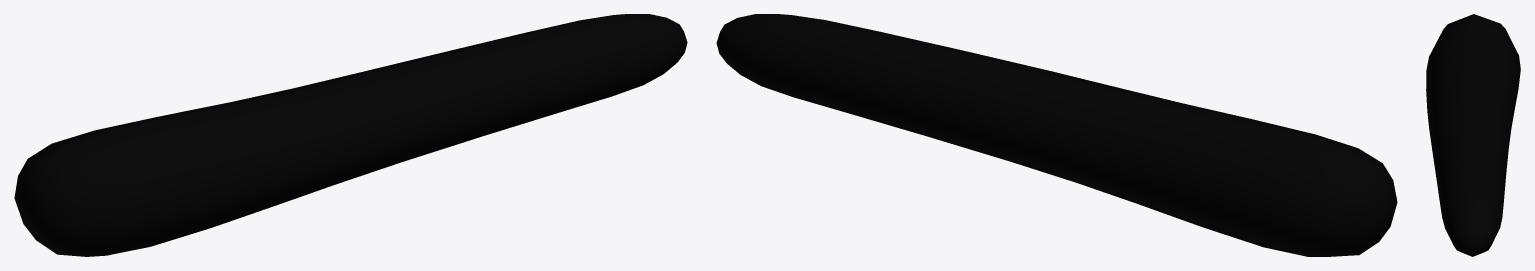
The model's file is PuroHueso_Brazo_L_1.obj.
The picture shows the model from 3 angles, left to right: view 1: azimuth 30°, elevation 25°; view 2: azimuth 150°, elevation 25°; view 3: azimuth 270°, elevation 25°; orthographic projection. The views are drawn at different scales.
Parts seen in each view (by area): view 1: PuroHueso_Brazo_L_1; view 2: PuroHueso_Brazo_L_1; view 3: PuroHueso_Brazo_L_1.
Boxes of the visible parts, x1,y1,x2,y2 form: PuroHueso_Brazo_L_1: [14, 14, 687, 256]; PuroHueso_Brazo_L_1: [716, 14, 1397, 256]; PuroHueso_Brazo_L_1: [1426, 14, 1520, 256].
Bounding box in the file's own units: 0.3064 × 0.052 × 0.0561.
Materials: 1 (1 with a texture image).
